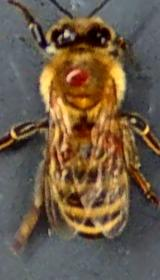varroa_mite: (56, 59, 98, 94)
